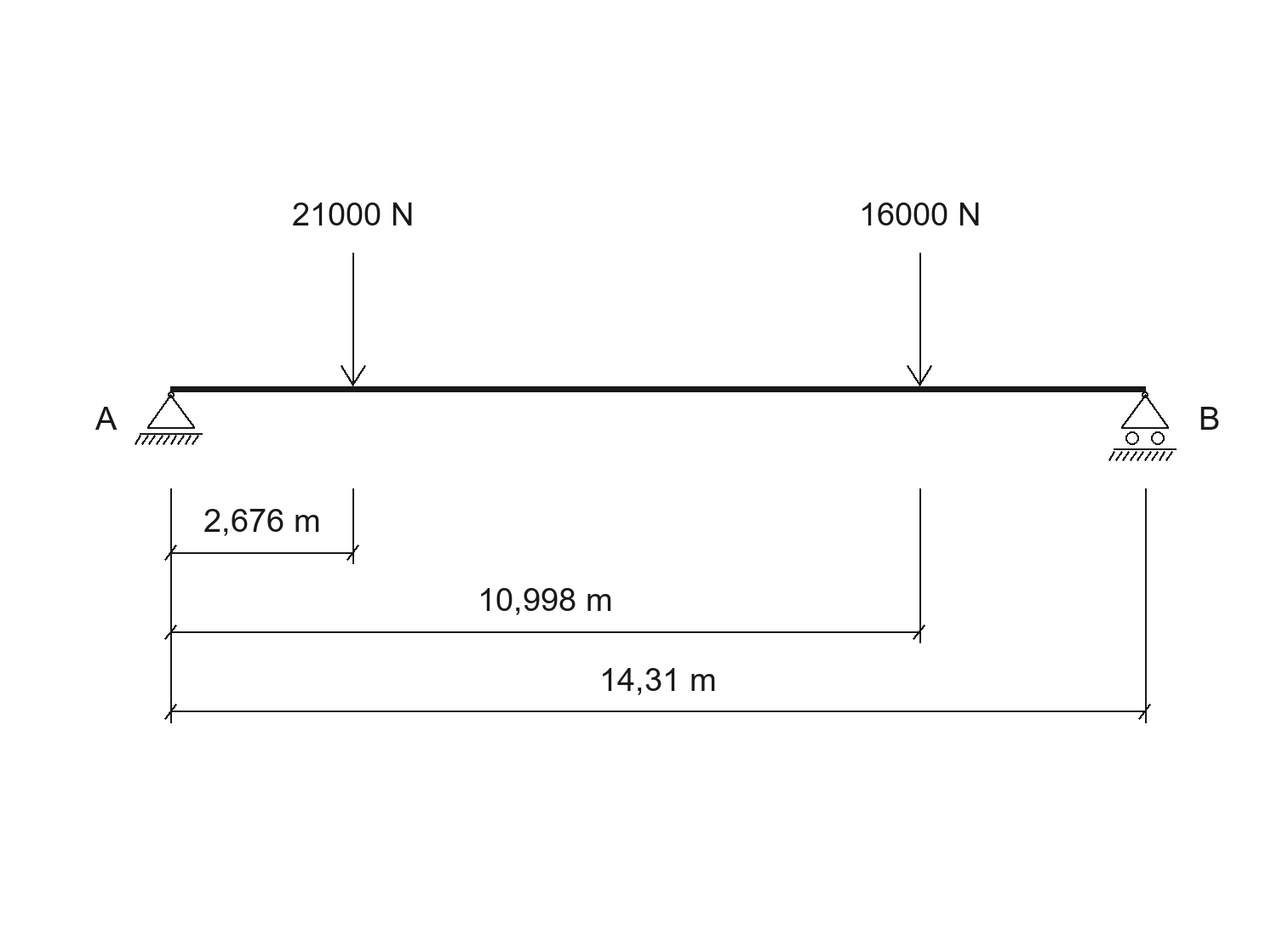pin_support: (135, 391, 203, 445)
point_load: (341, 253, 366, 386), (907, 253, 932, 386)
roller_support: (1108, 391, 1177, 461)
